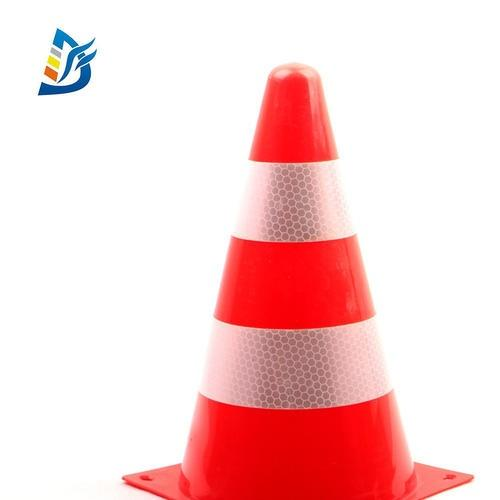cone_barrel: (169, 73, 430, 494)
